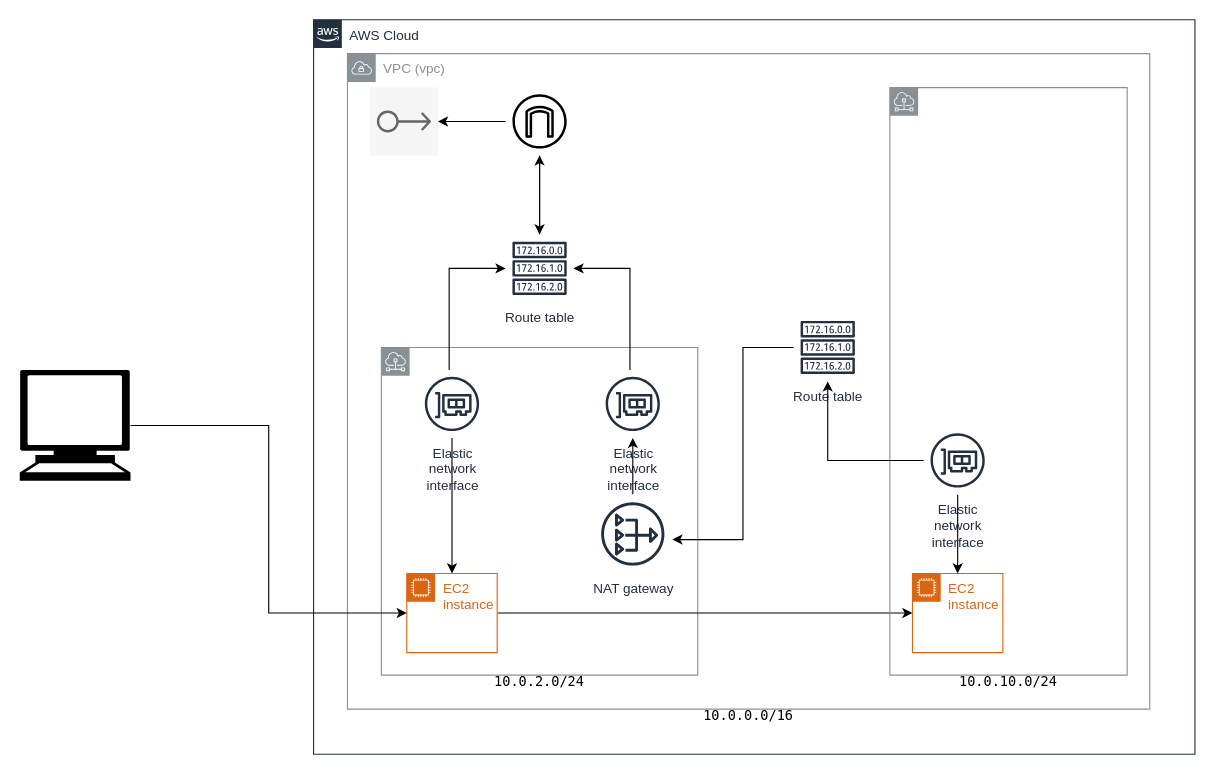
Some shapes in this 1215 by 774 pixel diagram are drawn without their labels. The box of each missing label's shape, as (x1, y1, x2, y2) in pixels:
Admin workstation: (19, 370, 130, 480)
Elastic IP Address: (369, 86, 438, 155)
Internet gateway: (505, 86, 573, 155)
Subnet (dmz): (380, 346, 698, 675)
Subnet(dev): (889, 86, 1127, 675)
